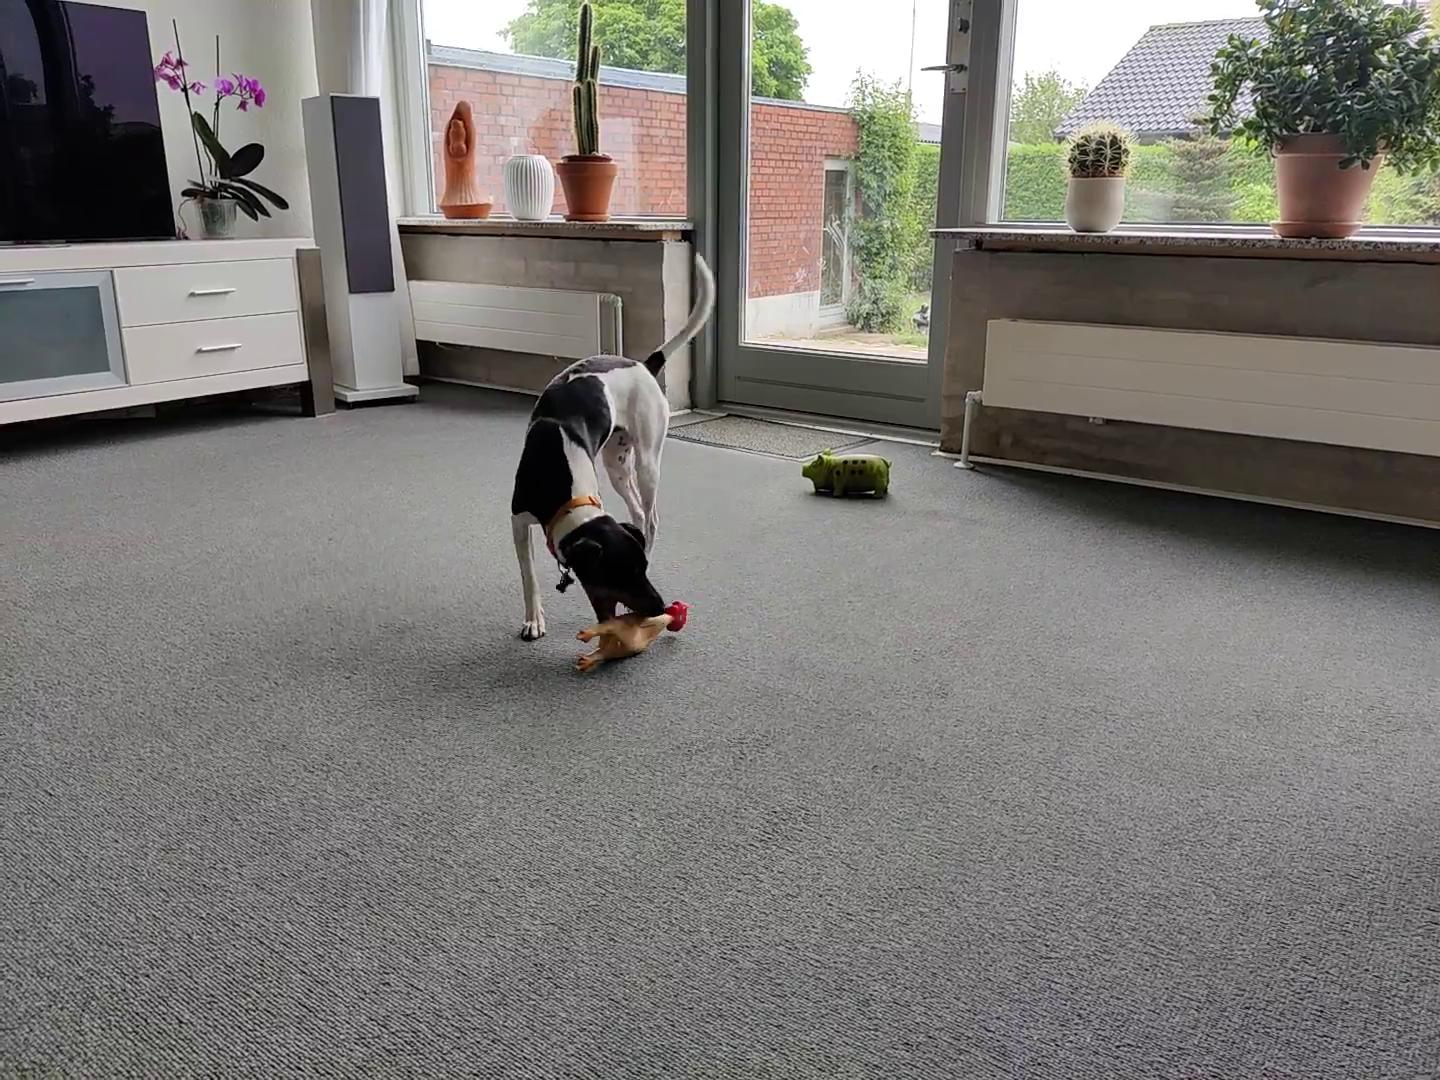Dog: (491, 241, 732, 667)
